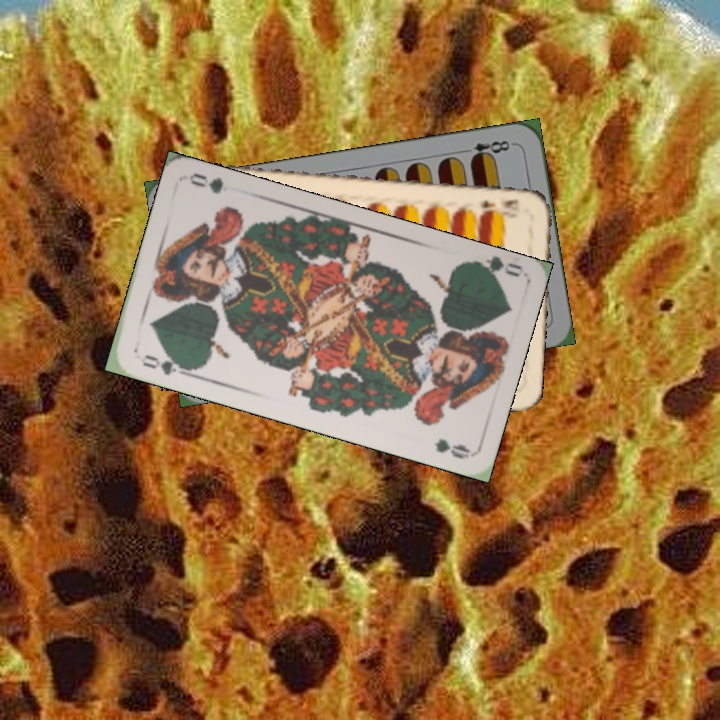E10: (477, 195, 522, 217)
E8: (458, 136, 517, 164)
GO: (464, 253, 524, 284), (138, 350, 192, 378)
